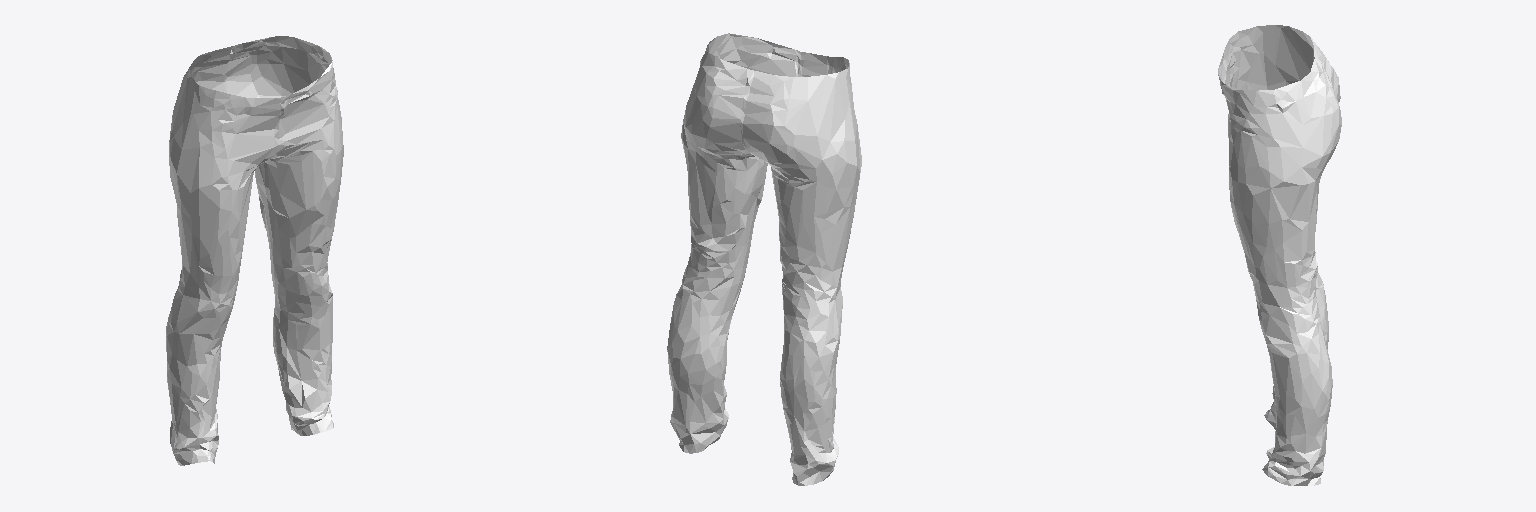
Rendered from Blue_Jeans.obj.
3 renders of one model, left to right at view 1: azimuth 30°, elevation 25°; view 2: azimuth 150°, elevation 25°; view 3: azimuth 270°, elevation 25°, orthographic.
Visible parts, largest first — view 1: jeans; view 2: jeans; view 3: jeans.
Part boxes in pixels (x1,y1,x2,y2): jeans: (166,36,343,465); jeans: (667,33,861,485); jeans: (1218,25,1341,485).
Bounding box in the file's own units: 0.4035 × 0.9179 × 0.2569.